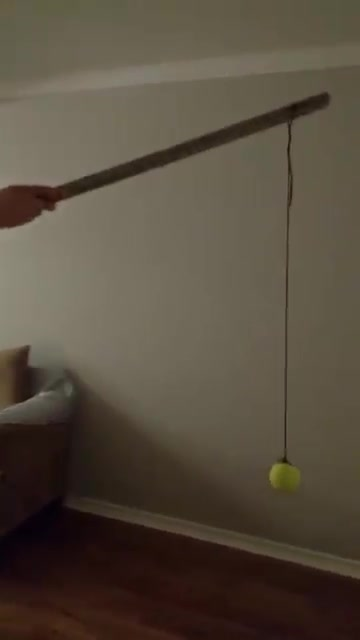tennis_ball: (267, 459, 302, 494)
